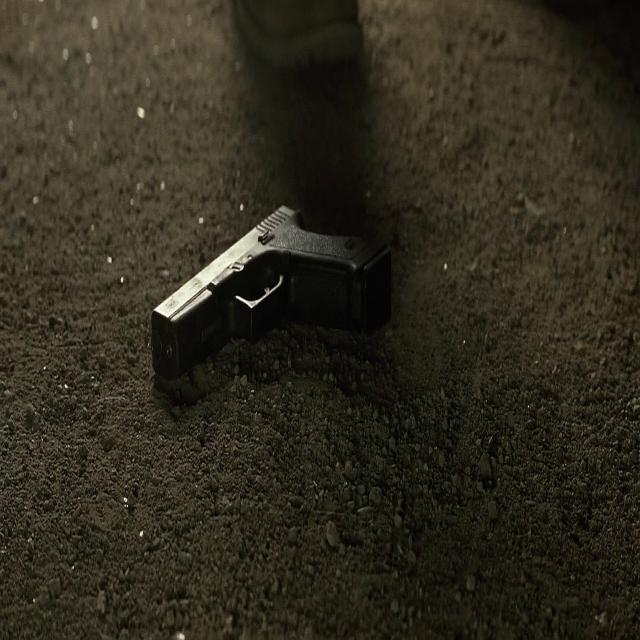gun-knife-thesis - v11 Yolov5 augmented: (145, 191, 396, 394)
